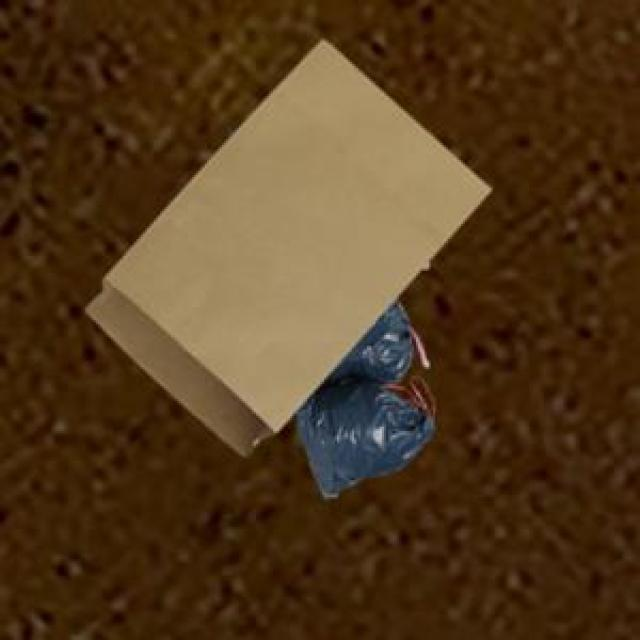miscellaneous trash: (290, 294, 431, 495)
paper: (83, 36, 486, 452)
